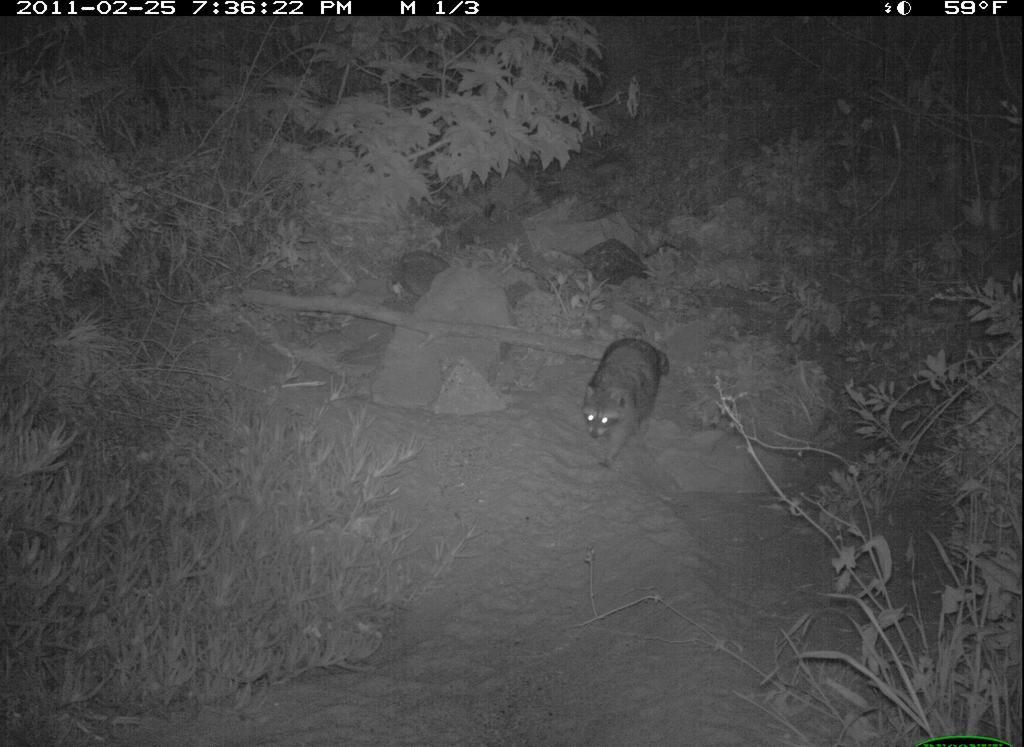raccoon: (578, 334, 673, 472)
